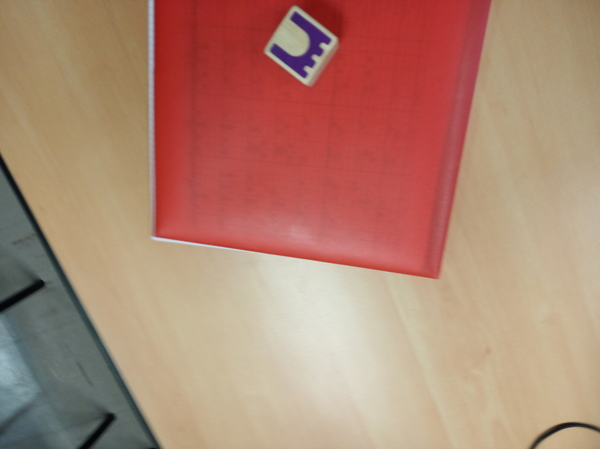violet: (264, 8, 341, 85)
